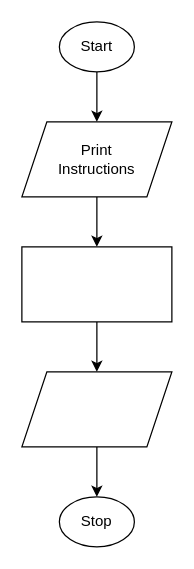
Some shapes in this 194 by 569 pixel diagram are drawn without their labels. Here are the shapes that lost their labels. From the top down, the centre of each, then its label:
At [96,284]: "Read Characteristics".
At [96,409]: "Print Characteristics".
